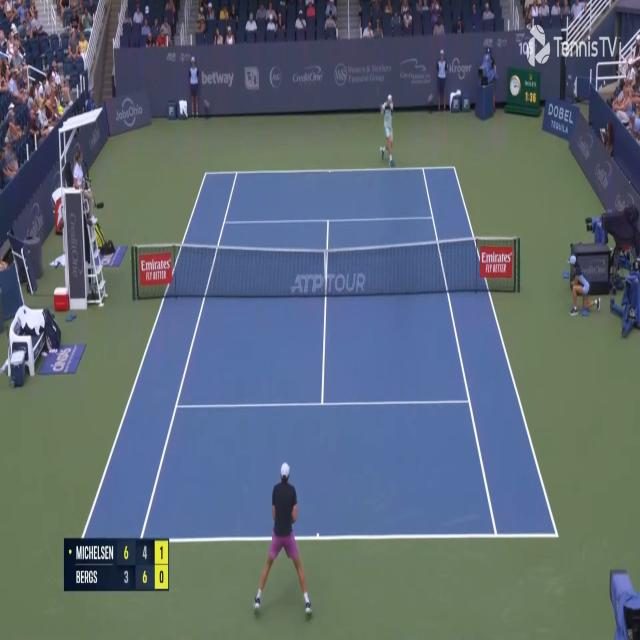tennis-player: (251, 458, 315, 622), (379, 93, 397, 168)
